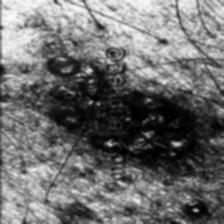Unclassified: (0, 52, 103, 166), (128, 100, 223, 181), (171, 198, 207, 216), (46, 208, 96, 220)
